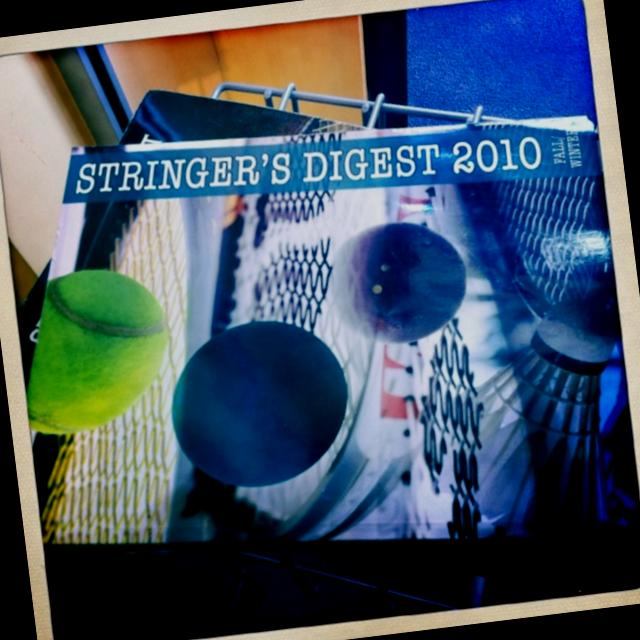Tennis Ball: (11, 252, 189, 446)
